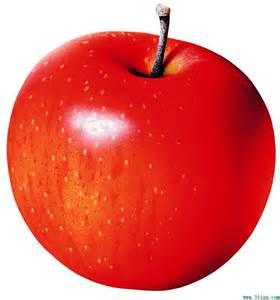apple: (8, 8, 280, 294)
